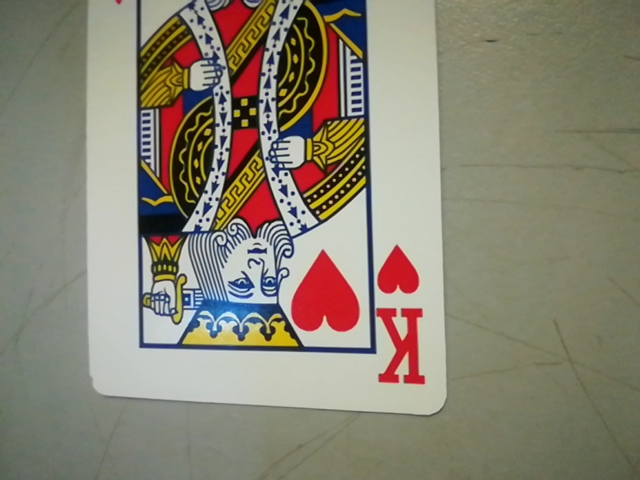hx k: (366, 240, 437, 400)
